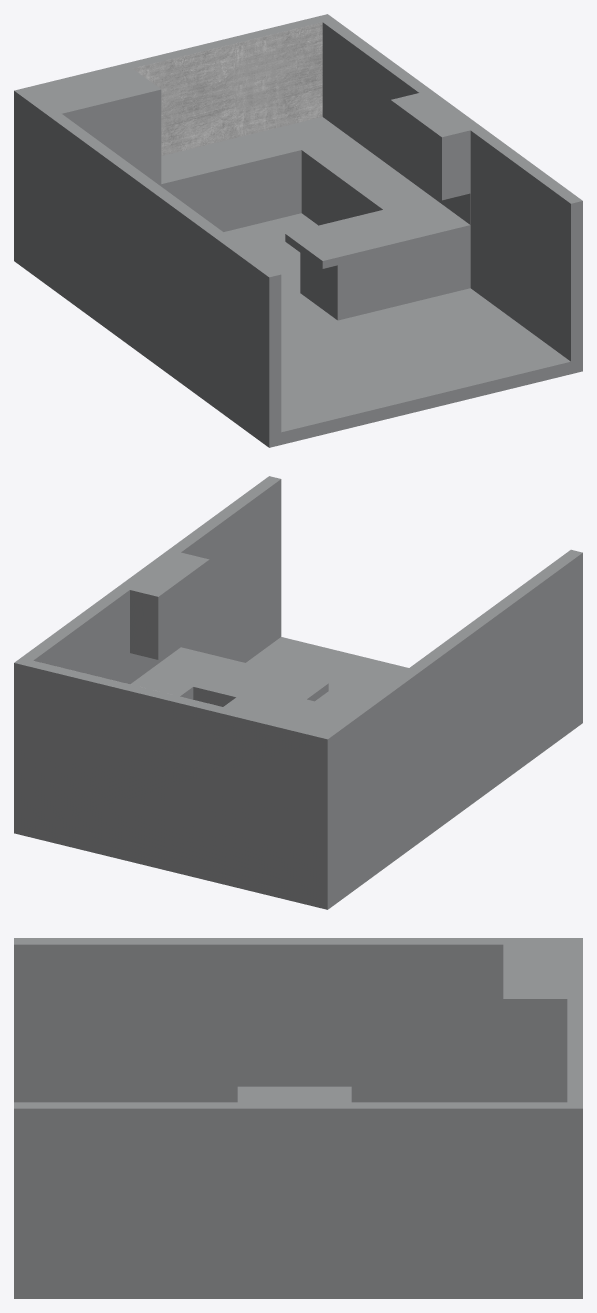
The picture shows the model from 3 angles, top to bottom: view 1: azimuth 30°, elevation 25°; view 2: azimuth 150°, elevation 25°; view 3: azimuth 270°, elevation 25°; orthographic projection. The views are drawn at different scales.
Visible parts, largest first — view 1: L_09, L_01, L_03, L_02, L_07, L_08, L_06, L_04, L_05; view 2: L_09, L_06, L_03, L_01, L_08, L_04, L_05; view 3: L_09, L_04, L_06, L_05.
Part boxes in pixels (bbox=[...]): L_09: bbox=[14, 14, 582, 447]; L_01: bbox=[224, 213, 570, 444]; L_03: bbox=[161, 117, 470, 268]; L_02: bbox=[167, 158, 470, 320]; L_07: bbox=[133, 22, 322, 155]; L_08: bbox=[322, 22, 470, 224]; L_06: bbox=[390, 93, 470, 200]; L_04: bbox=[83, 68, 161, 186]; L_05: bbox=[33, 80, 111, 149]; L_09: bbox=[14, 476, 582, 909]; L_06: bbox=[130, 552, 209, 659]; L_03: bbox=[130, 647, 328, 702]; L_01: bbox=[246, 637, 408, 710]; L_08: bbox=[33, 590, 180, 684]; L_04: bbox=[223, 686, 301, 718]; L_05: bbox=[273, 698, 350, 731]; L_09: bbox=[14, 938, 582, 1298]; L_04: bbox=[503, 971, 567, 1102]; L_06: bbox=[237, 1086, 351, 1102]; L_05: bbox=[503, 944, 567, 971].
Bounding box in the file's own units: 243 × 126 × 342.
Materials: 2 (1 with a texture image).
